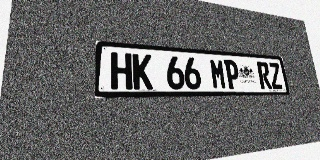6: (166, 56, 185, 89), (183, 57, 202, 89)
H: (111, 52, 132, 90)
K: (132, 53, 153, 89)
M: (209, 59, 227, 89)
P: (224, 59, 241, 89)
R: (256, 62, 272, 89)
Z: (268, 62, 283, 89)
